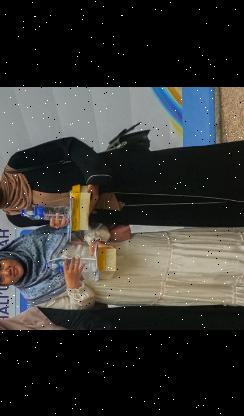Plastic Bottle: (16, 199, 68, 217), (44, 254, 102, 270)
